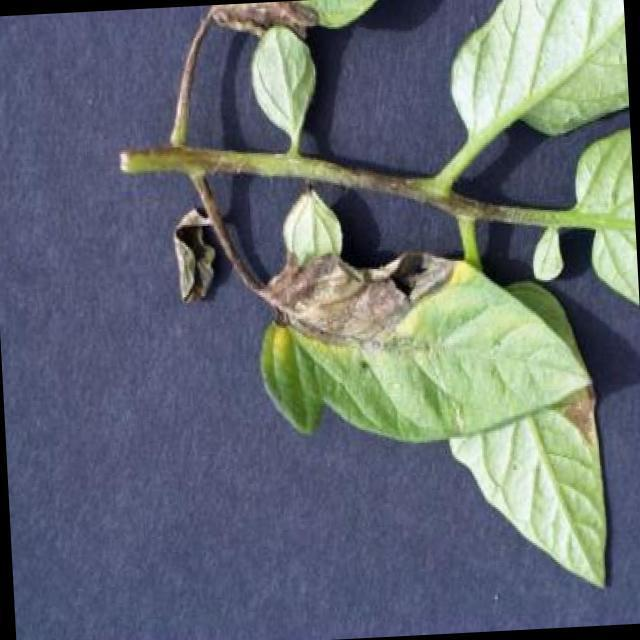Healthy Leaf: (245, 26, 322, 151)
